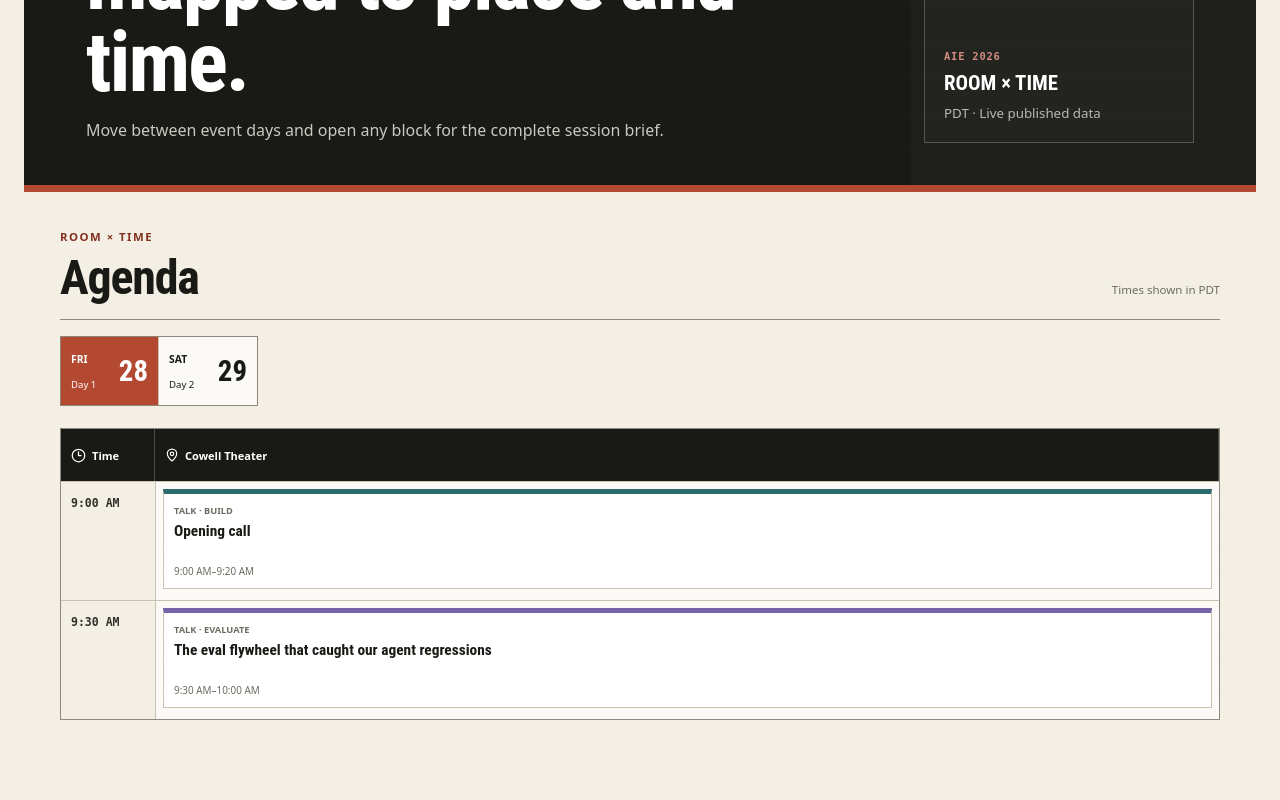
Scenario: anonymous public widget surfaces › navigates agenda days and restores the grid after a full session detail
The width and height of the screenshot is (1280, 800).
(page scrolled)
Check: the element that starts with "Time" is shown, box [61,430,1219,720]
What coordinates should you click on to do the following:
click the button "Talk · Build Opening call 9:00 AM–9:20 AM"
I would click on:
 (212, 531)
Its box is [163,490,1212,590].
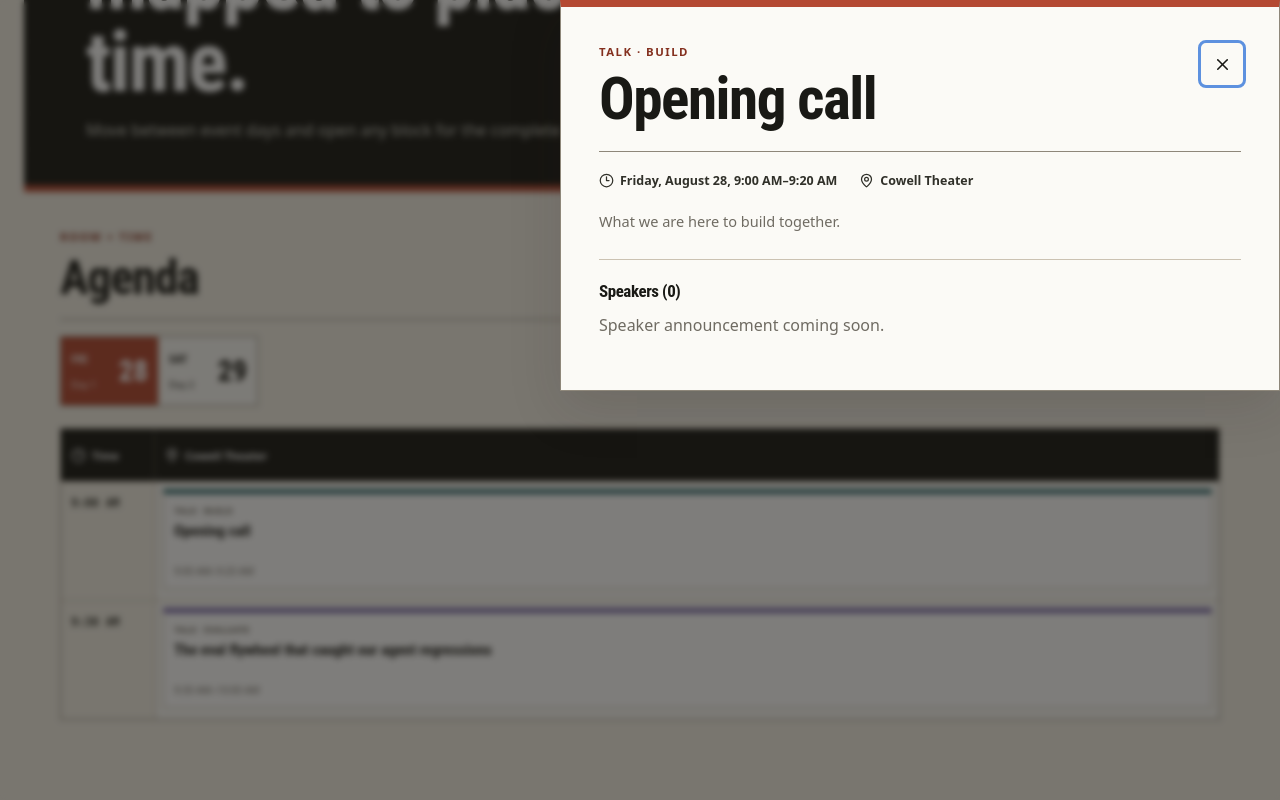
Check: the dialog shows "Cowell Theater", box [880,172,973,189]
Check: the button named "Close session details" is shown
What coordinates should you click on to do the following:
click the button named "Close session details"
I would click on:
 (1222, 64)
Its box is [1203,45,1241,83].
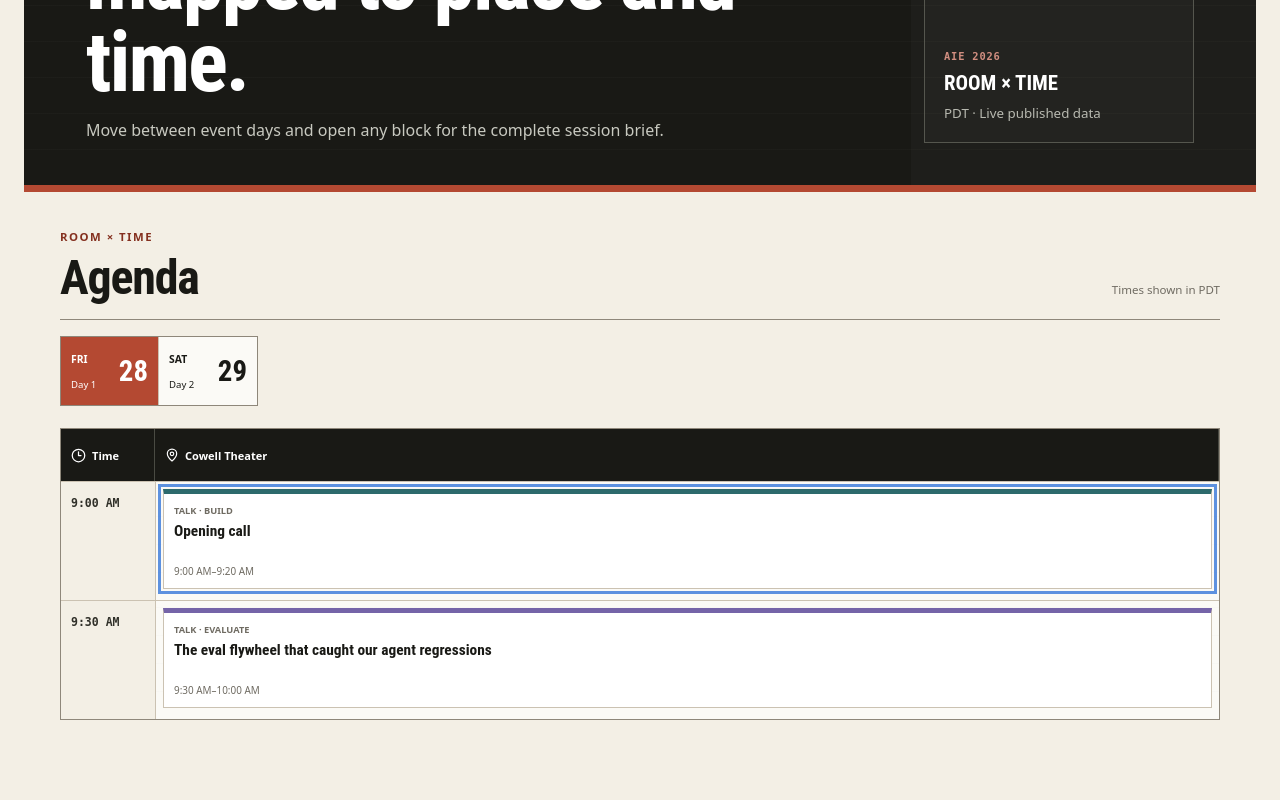
Check: the element that starts with "Time" is shown, box [61,430,1219,720]
What coordinates should you click on to do the following:
click the button "SAT 29 Day 2"
I would click on:
 (208, 372)
Its box is [159,338,257,406].
(page scrolled)
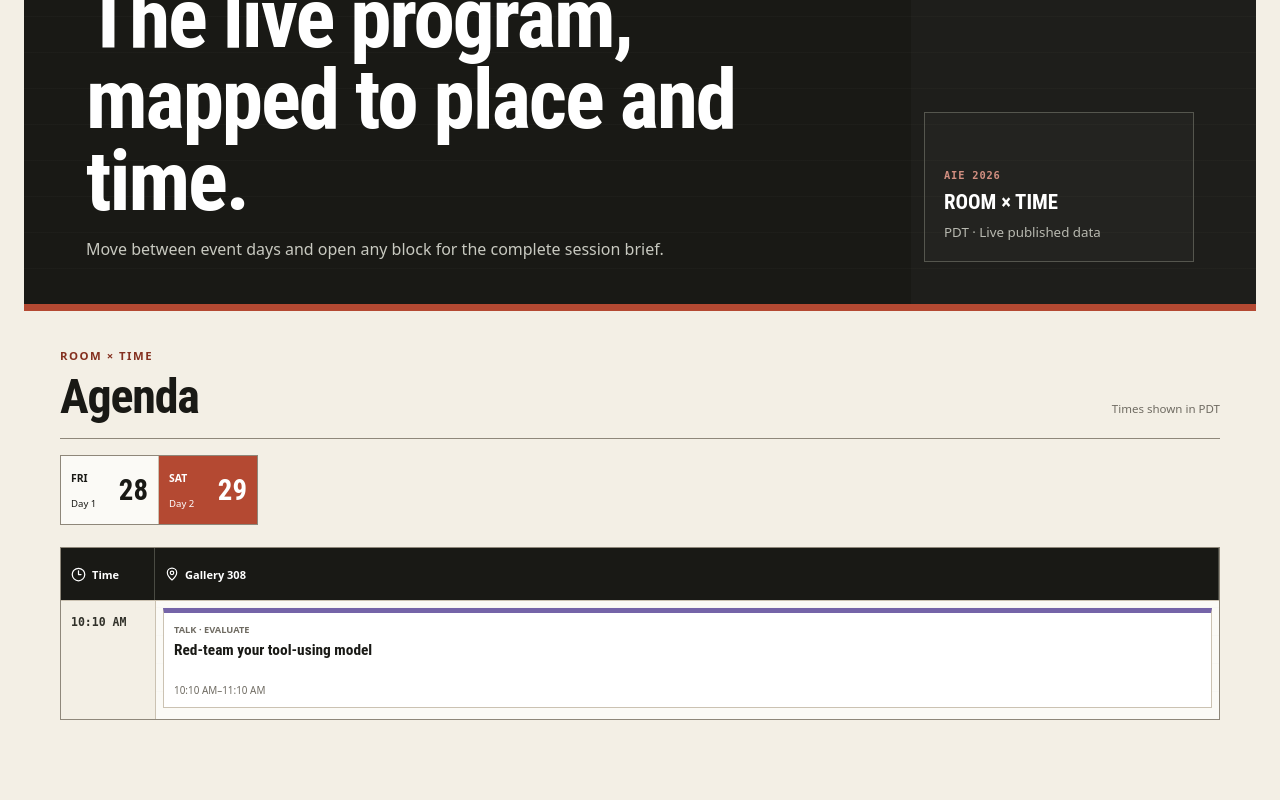
Check: the text "Red-team your tool-using model" is shown, box [174,642,372,660]
